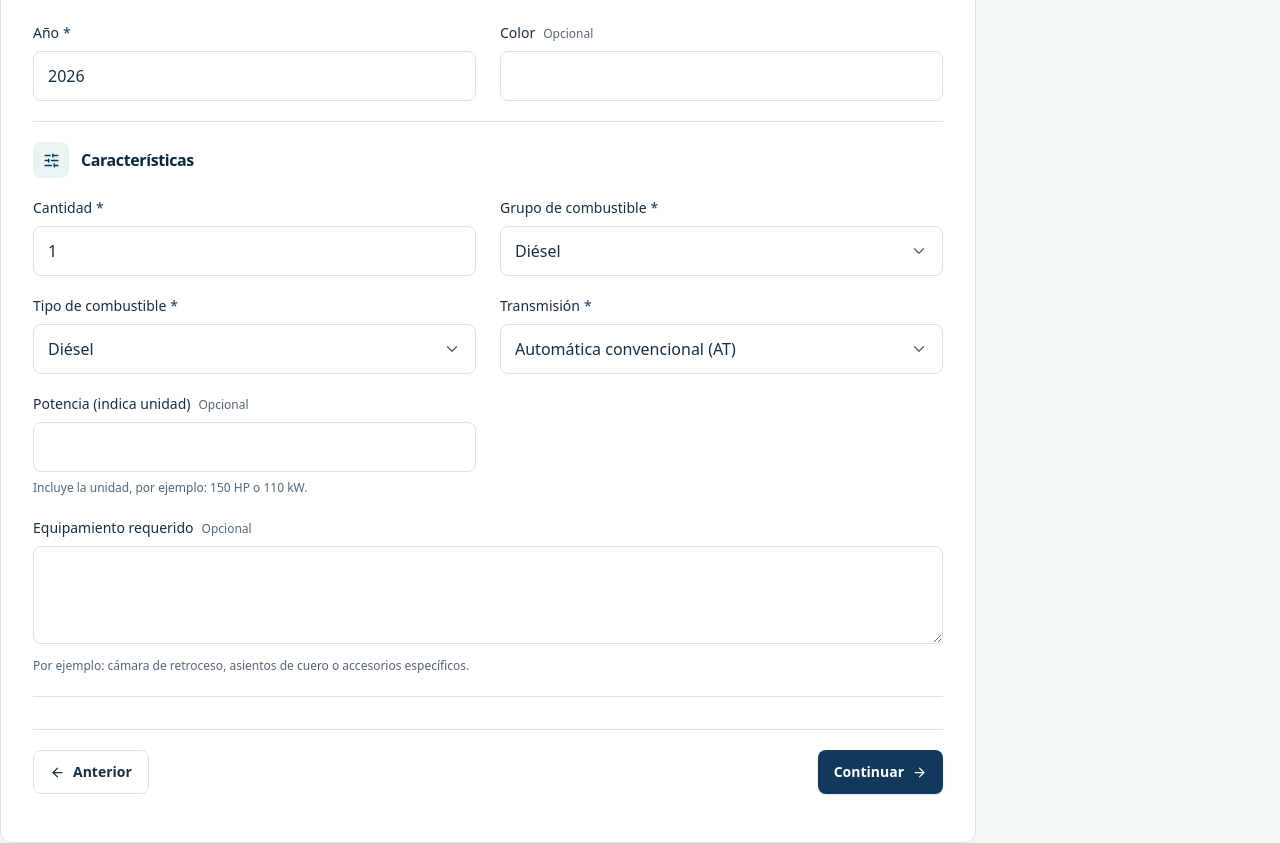
Flujo público FRI › requiere seleccionar si el vehículo es automóvil o camión
(page scrolled)
Click the button "Continuar": coordinates (880, 772) [818, 750, 943, 794]
(page scrolled)
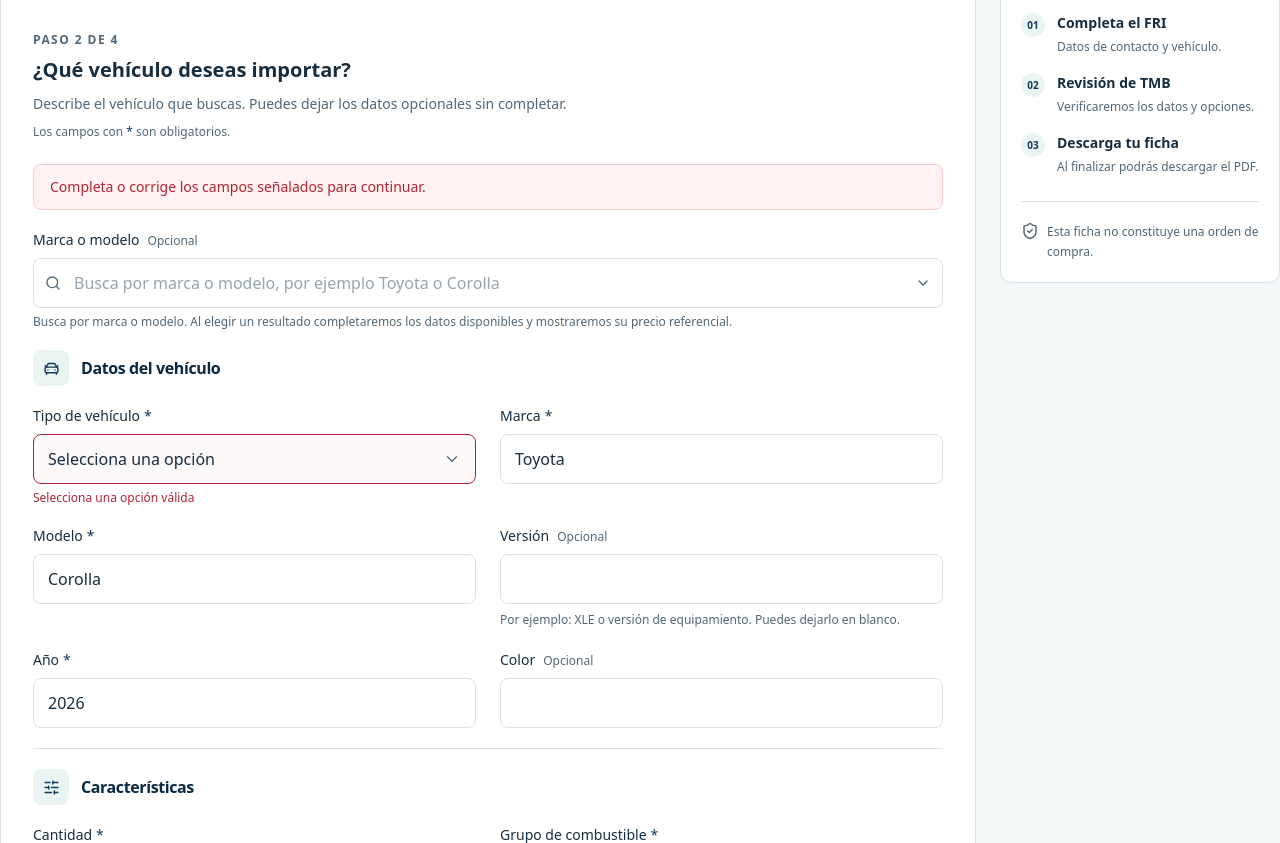
Expected: the heading "¿Qué vehículo deseas importar?" is shown, [33, 56, 351, 83]
Result: the text "Selecciona una opción válida" is shown at [33, 489, 194, 506]
